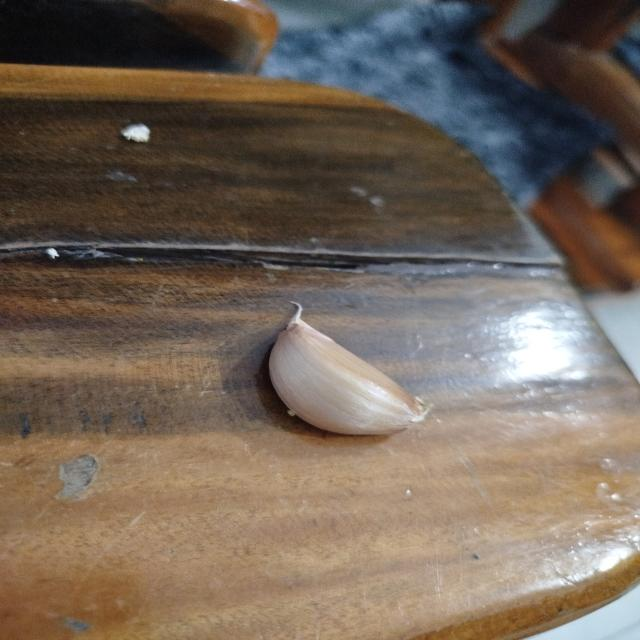garlic: (267, 300, 433, 436)
